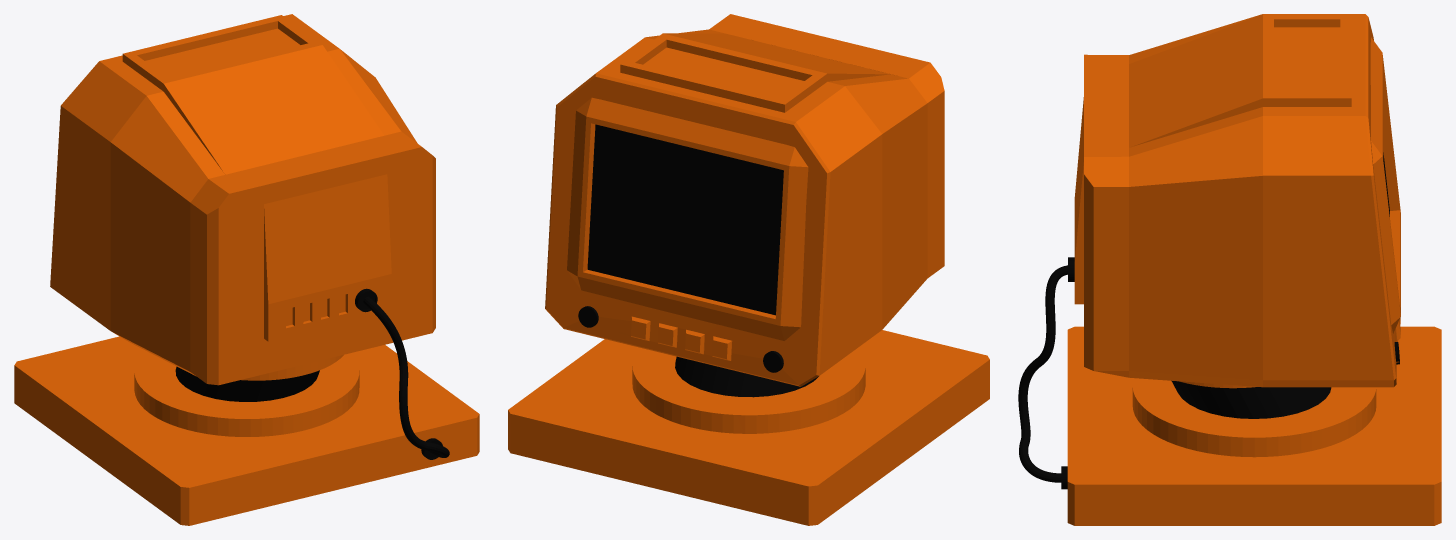
The picture shows the model from 3 angles, left to right: view 1: azimuth 30°, elevation 25°; view 2: azimuth 150°, elevation 25°; view 3: azimuth 270°, elevation 25°; orthographic projection. The views are drawn at different scales.
Parts seen in each view (by area): view 1: body, base, bracket, wire; view 2: body, base, wire, bracket; view 3: body, base, bracket, wire.
Boxes of the visible parts, x1=… form: body: x1=50, y1=14, x2=435, y2=385; base: x1=14, y1=336, x2=479, y2=525; bracket: x1=175, y1=366, x2=319, y2=401; wire: x1=355, y1=288, x2=449, y2=459; body: x1=545, y1=14, x2=944, y2=386; base: x1=508, y1=330, x2=989, y2=525; wire: x1=582, y1=124, x2=783, y2=366; bracket: x1=675, y1=356, x2=818, y2=397; body: x1=1074, y1=14, x2=1400, y2=388; base: x1=1067, y1=326, x2=1441, y2=525; bracket: x1=1171, y1=380, x2=1331, y2=418; wire: x1=1018, y1=152, x2=1389, y2=489.
Size of the model in its own units: 0.868 by 1 by 0.982.
